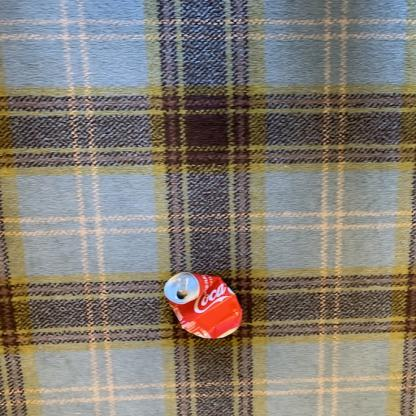trash: (166, 269, 244, 342)
